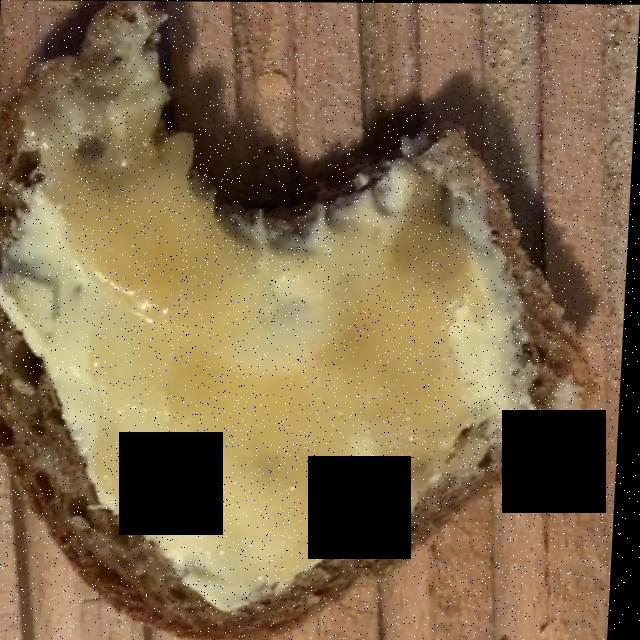bread: (0, 28, 559, 618)
butter: (10, 56, 526, 589)
honey: (18, 76, 517, 595)
